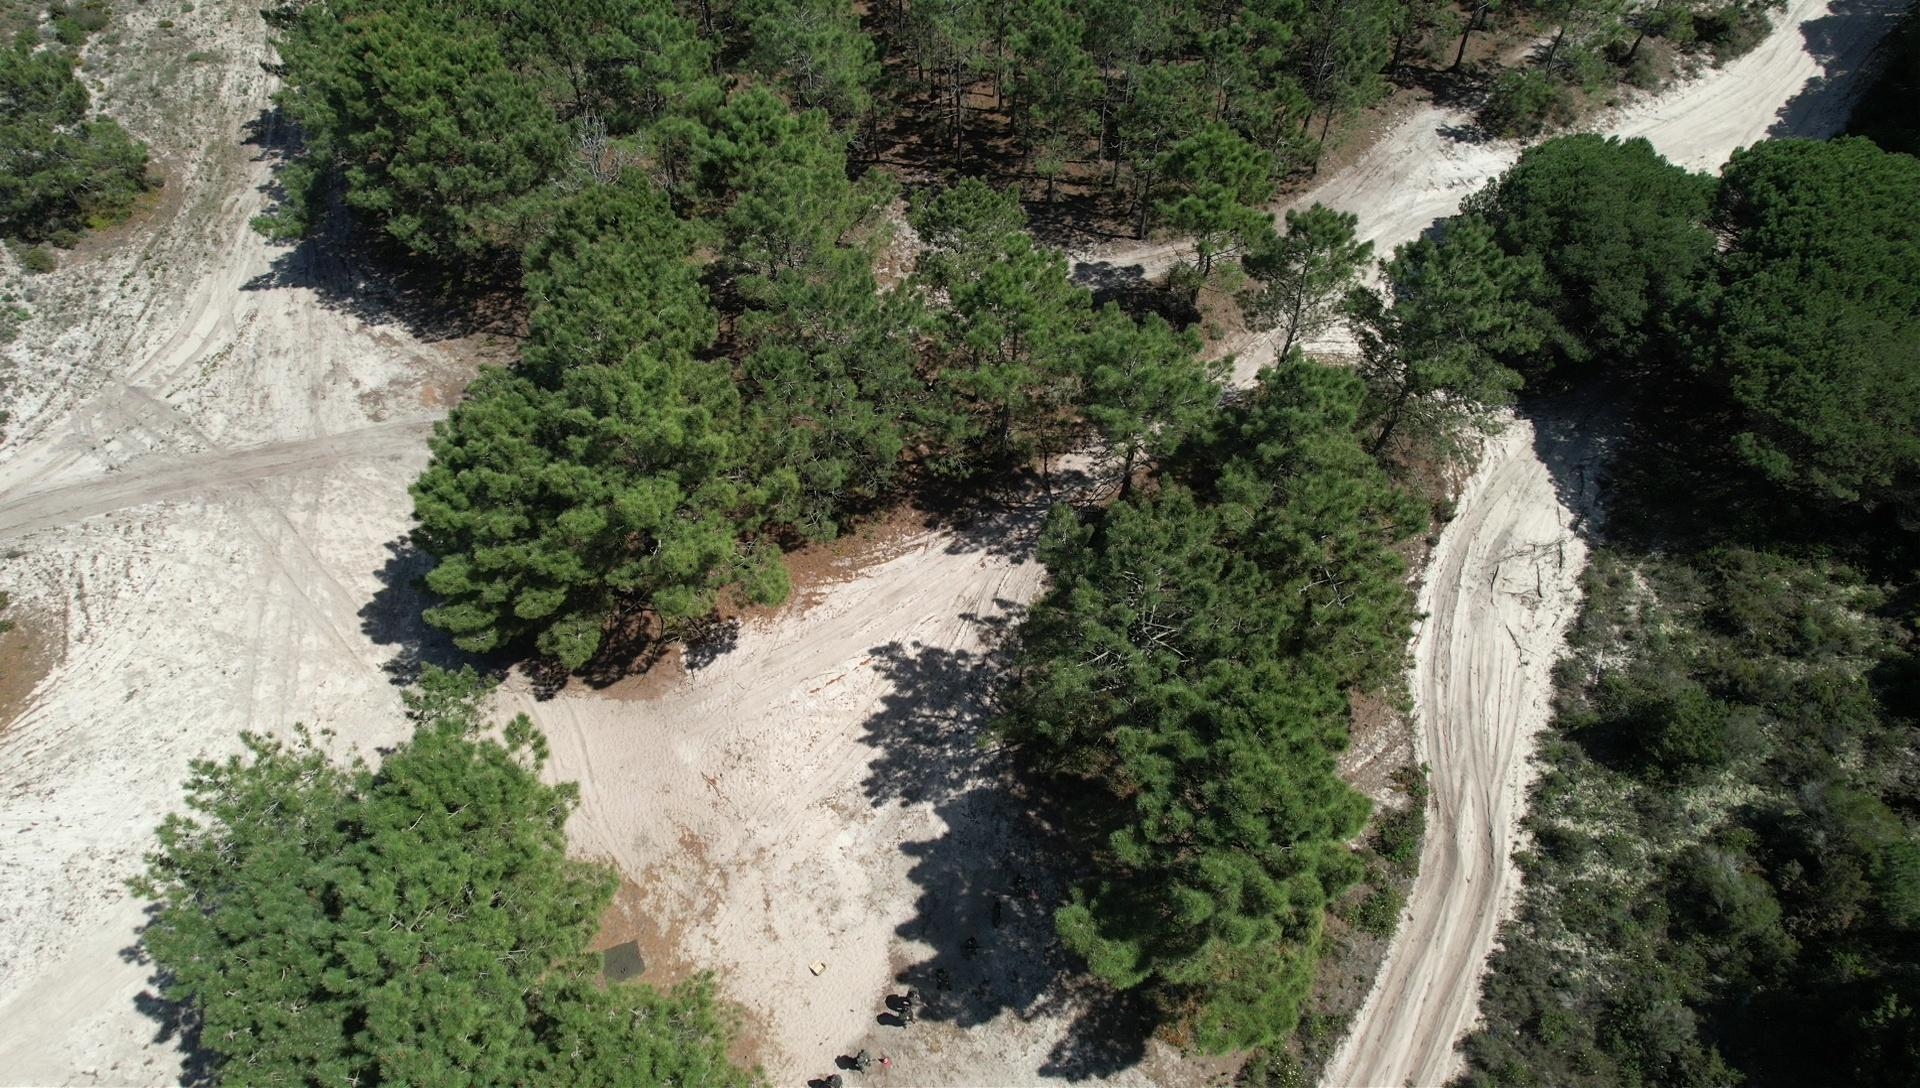Soldier: (958, 933, 984, 963), (849, 1046, 874, 1077), (905, 981, 929, 1010), (933, 965, 954, 996), (894, 1005, 915, 1028), (820, 1070, 843, 1088)
